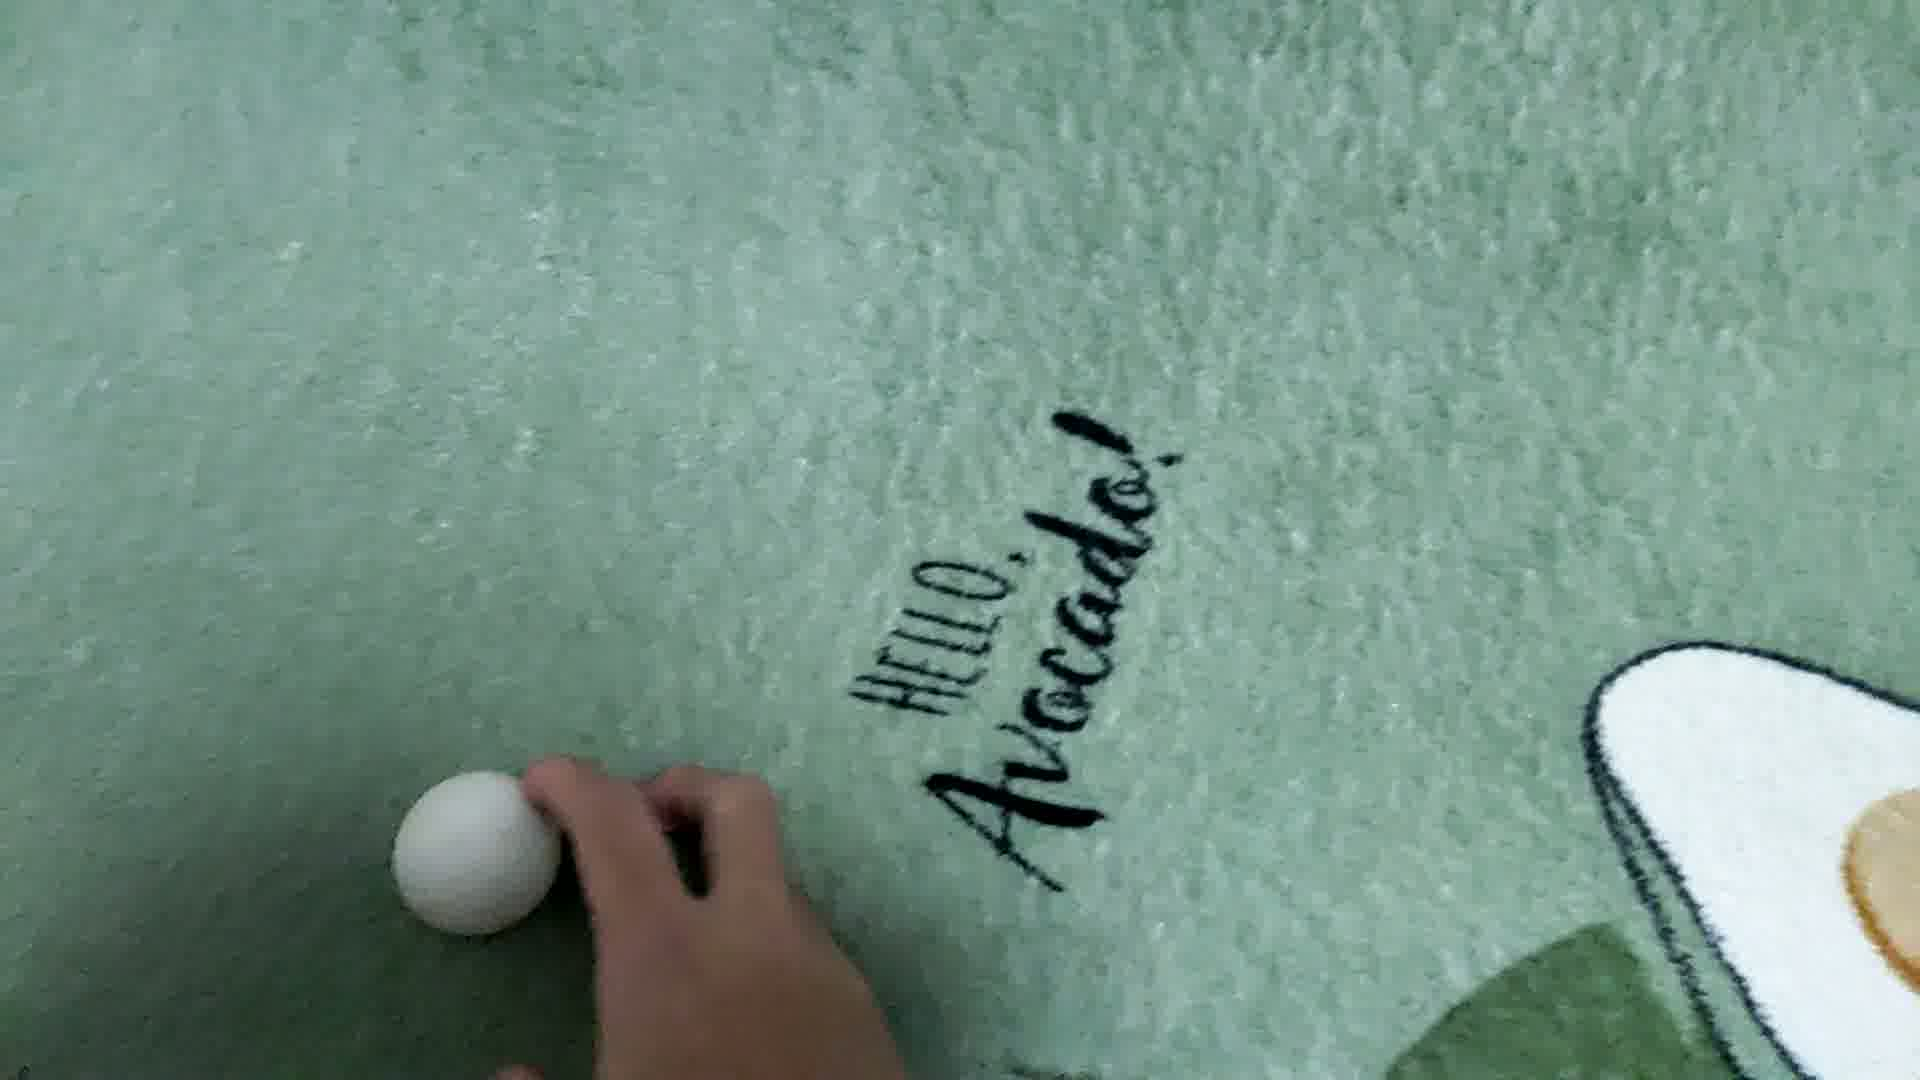Ball: (393, 766, 567, 935)
